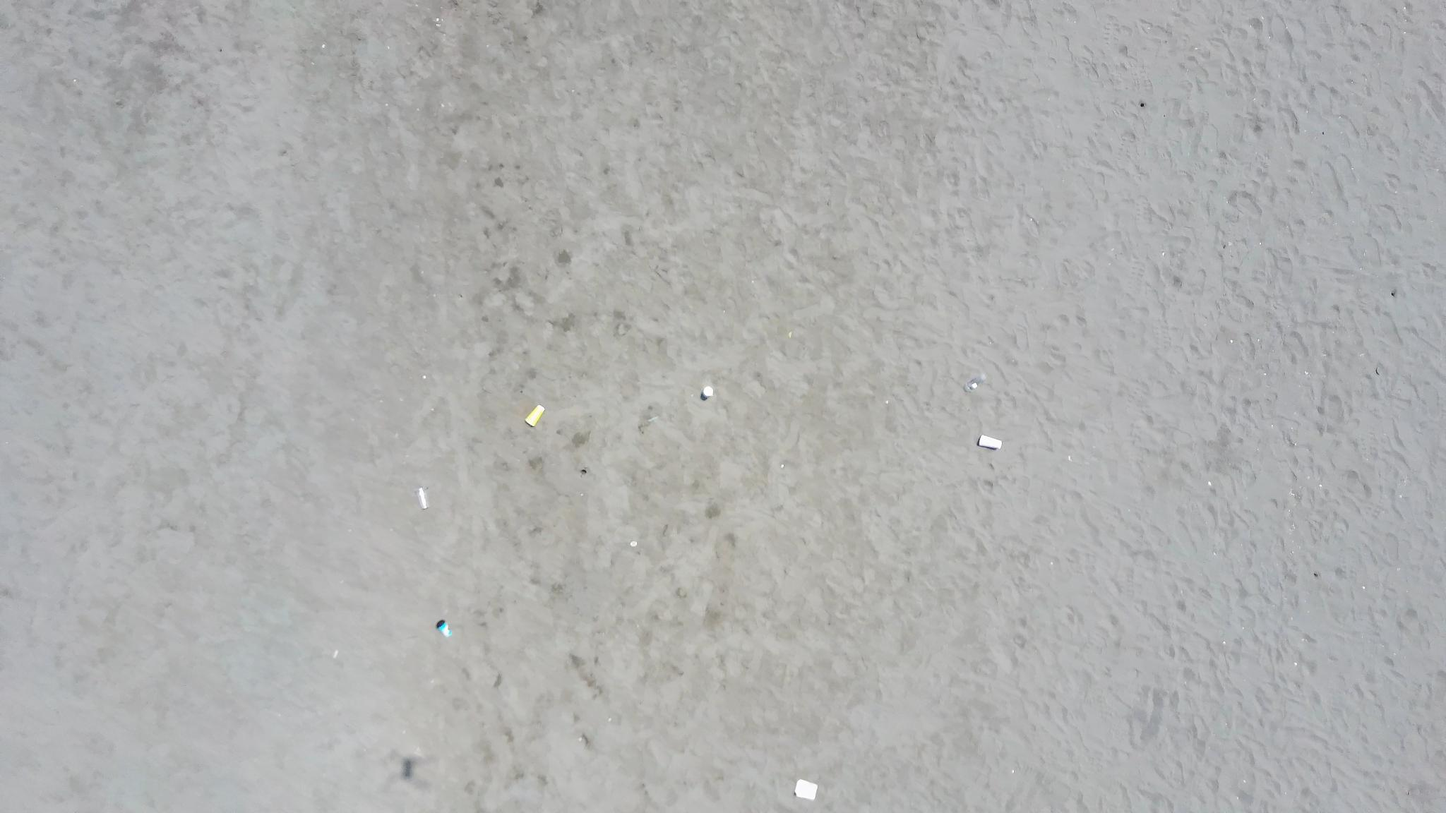Garbage: (795, 778, 816, 800), (525, 404, 544, 426), (964, 372, 985, 390), (976, 435, 1000, 449), (417, 488, 428, 510), (436, 620, 450, 637), (700, 386, 712, 399), (630, 539, 637, 546), (333, 649, 338, 658)
